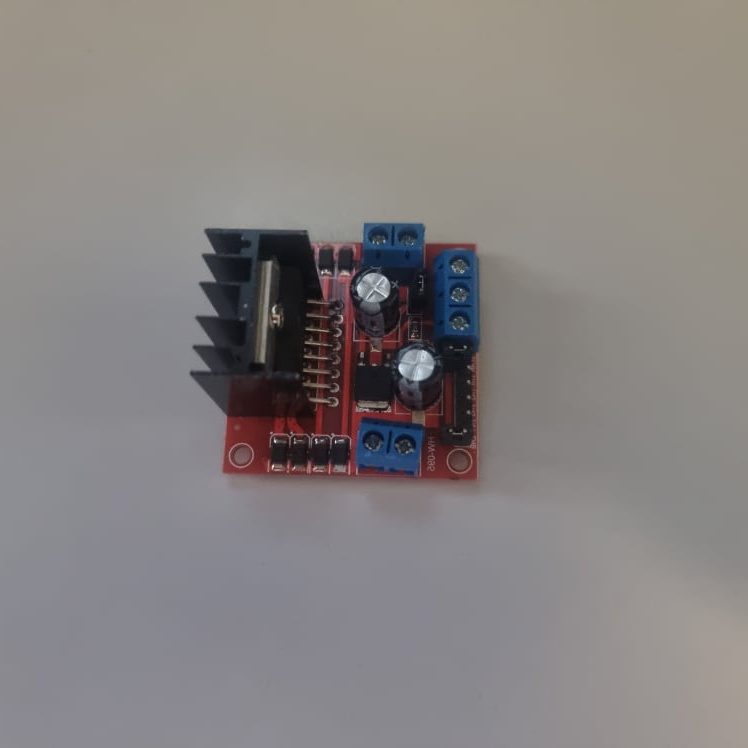MOTOR: (184, 222, 482, 477)
